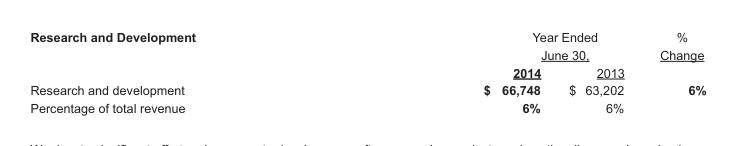table: (29, 29, 705, 114)
table column: (29, 29, 338, 114), (338, 29, 554, 114), (554, 29, 641, 114), (641, 29, 705, 114)
table column header: (29, 29, 705, 81)
table row: (29, 29, 705, 63), (29, 63, 705, 81), (29, 81, 705, 98), (29, 98, 705, 114)
table spanning cell: (29, 29, 338, 81), (338, 29, 641, 63), (641, 29, 705, 81)
